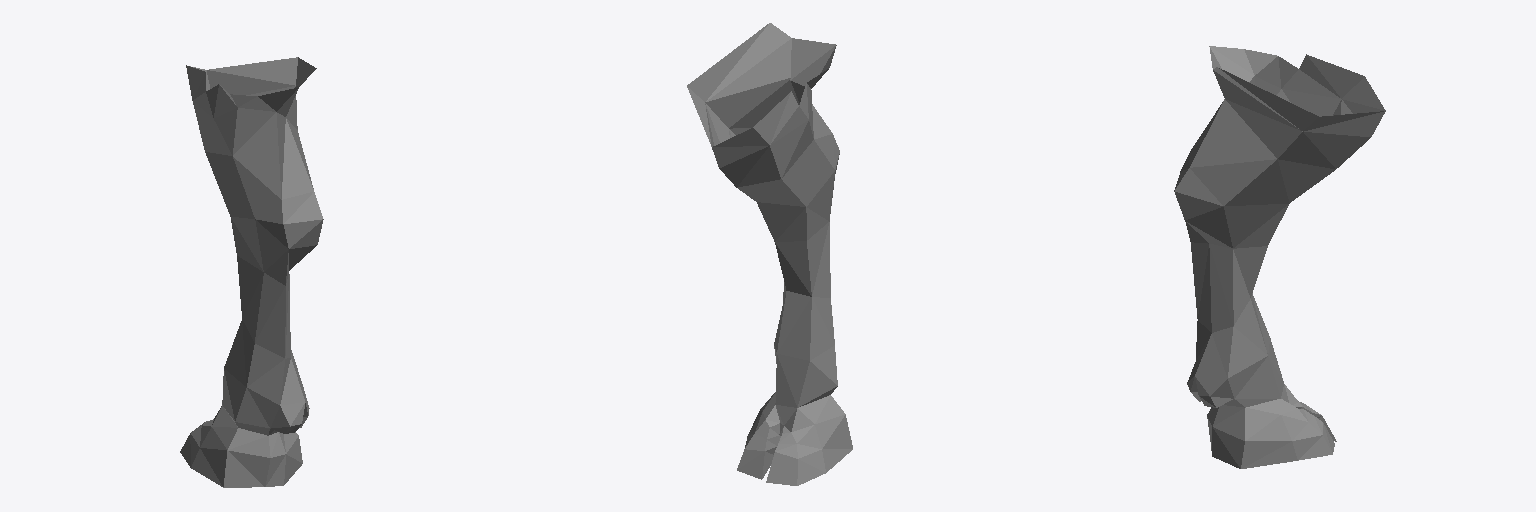
The model's file is cow_back_right_leg.obj.
3 views of the same model, side by side, from view 1: azimuth 30°, elevation 25°; view 2: azimuth 150°, elevation 25°; view 3: azimuth 270°, elevation 25° (orthographic).
Visible parts, largest first — view 1: cowTM08New00RTime02; view 2: cowTM08New00RTime02; view 3: cowTM08New00RTime02.
Part boxes in pixels (x1,y1,x2,y2): cowTM08New00RTime02: (180,57,323,487); cowTM08New00RTime02: (687,23,852,485); cowTM08New00RTime02: (1174,46,1385,468).
Size of the model in its own units: 1.06 by 3.33 by 1.57.